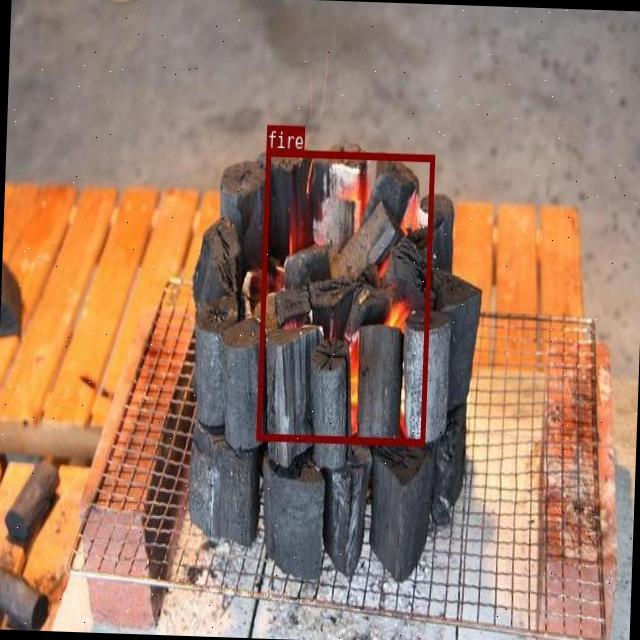fire: (256, 147, 433, 445)
